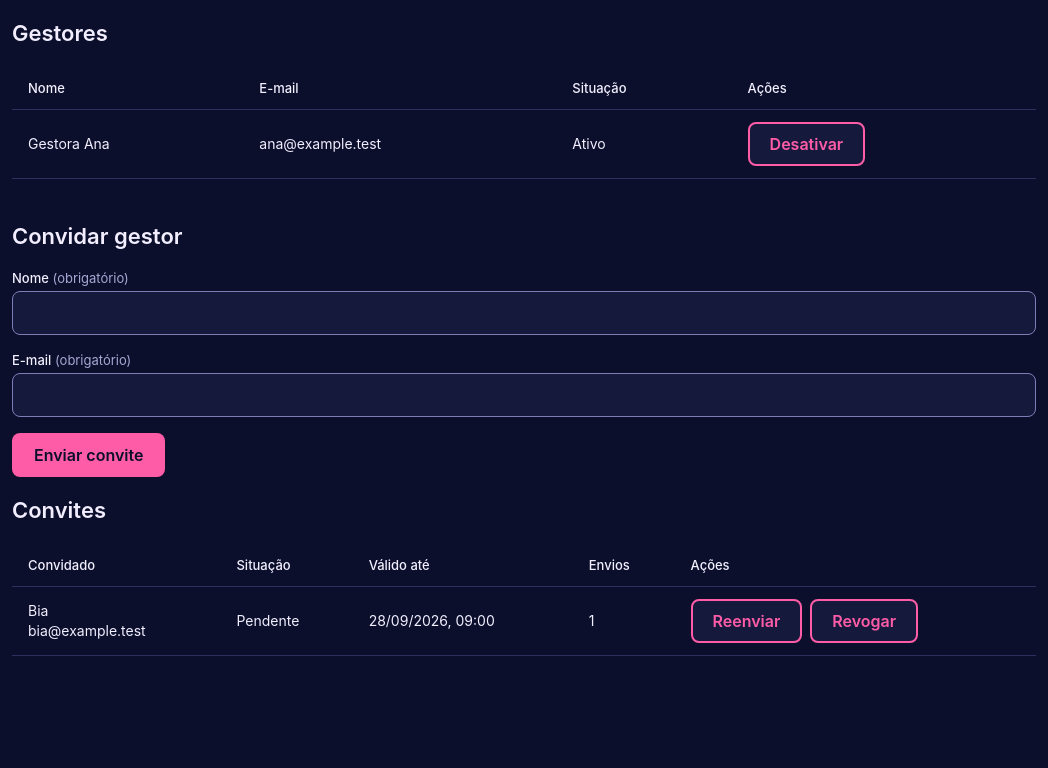
Test case: 002/US4-2 e 002/US4-3 ações atualizam as tabelas sem recarregar › revogar tira as ações do convite e o cache mostra Revogado
Click the button with aria-label "Revogar convite para bia@example.test".
click(864, 620)  # box 810,598 -> 918,642
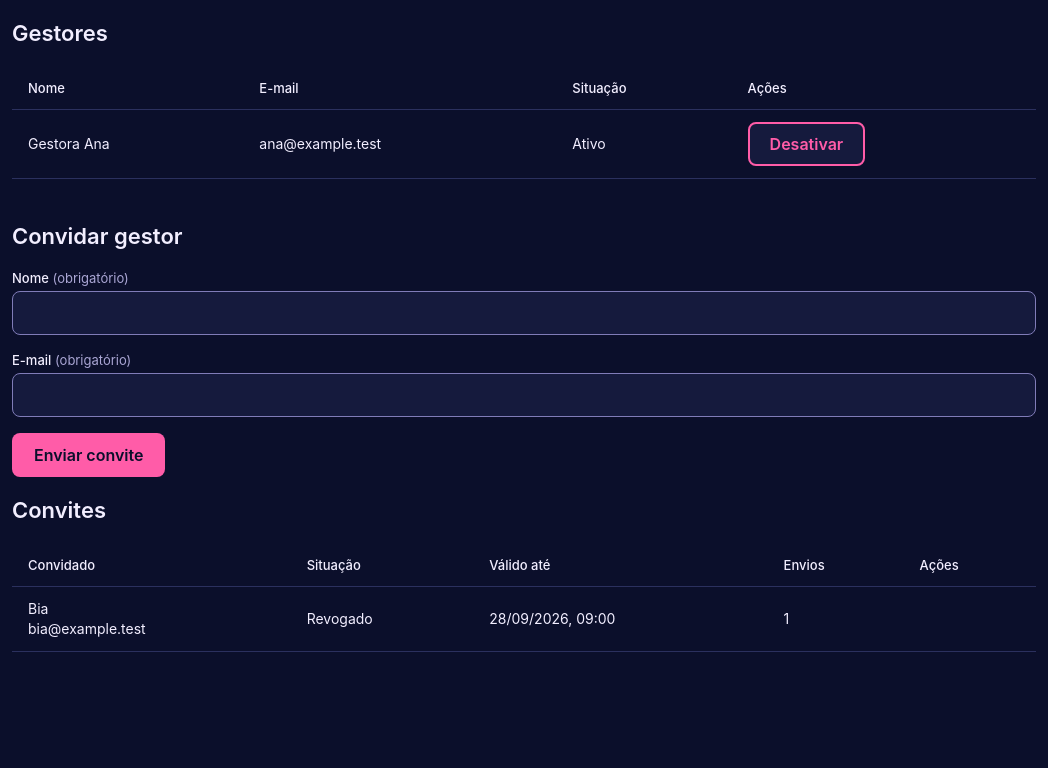
Result: the button "Reenviar" is gone
